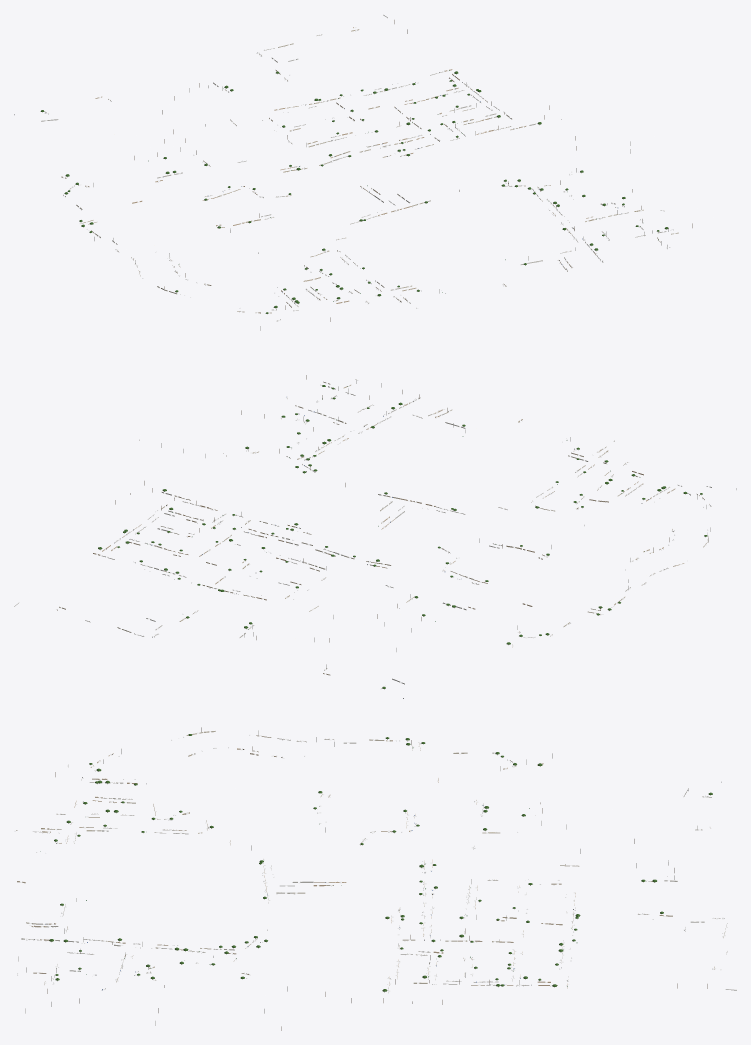
The model's file is nd_stm_m7_m3.glb.
3 views of the same model, one above another, from view 1: azimuth 30°, elevation 25°; view 2: azimuth 150°, elevation 25°; view 3: azimuth 270°, elevation 25° (orthographic). The views are drawn at different scales.
Visible parts, largest first — view 1: nd_stm_m7_m3_lod0; view 2: nd_stm_m7_m3_lod0; view 3: nd_stm_m7_m3_lod0.
Boxes of the visible parts, <box> form: nd_stm_m7_m3_lod0: <box>14,15,692,330</box>; nd_stm_m7_m3_lod0: <box>14,375,736,698</box>; nd_stm_m7_m3_lod0: <box>15,727,736,1030</box>.
Size of what is drawn, in the model's own units: 984 by 24.55 by 1013.
